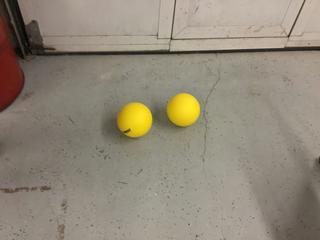power_cell: (113, 100, 156, 142), (164, 89, 201, 129)
